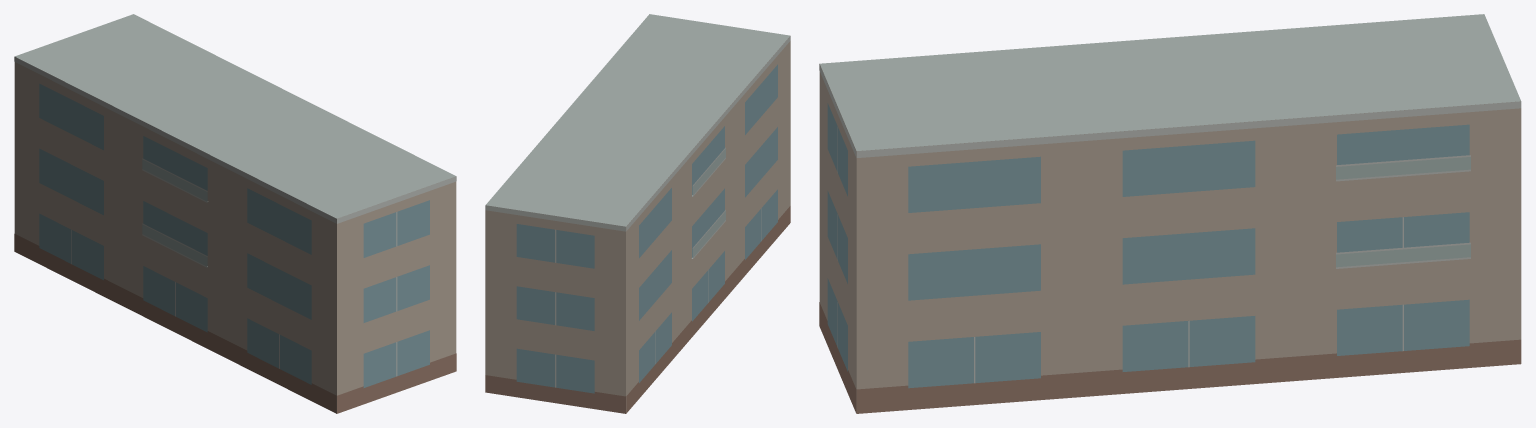
The model's file is survey-upis-33009370.glb.
The picture shows the model from 3 angles, left to right: view 1: azimuth 30°, elevation 25°; view 2: azimuth 150°, elevation 25°; view 3: azimuth 270°, elevation 25°; orthographic projection. The views are drawn at different scales.
Parts seen in each view (by area): view 1: survey-upis-33009370.tmp; view 2: survey-upis-33009370.tmp; view 3: survey-upis-33009370.tmp.
Boxes of the visible parts, left/top/right/bottom form: survey-upis-33009370.tmp: left=14, top=14, right=456, bottom=413; survey-upis-33009370.tmp: left=485, top=14, right=790, bottom=413; survey-upis-33009370.tmp: left=819, top=14, right=1521, bottom=413.
Size of the model in its own units: 10.26 by 9.15 by 22.16.
